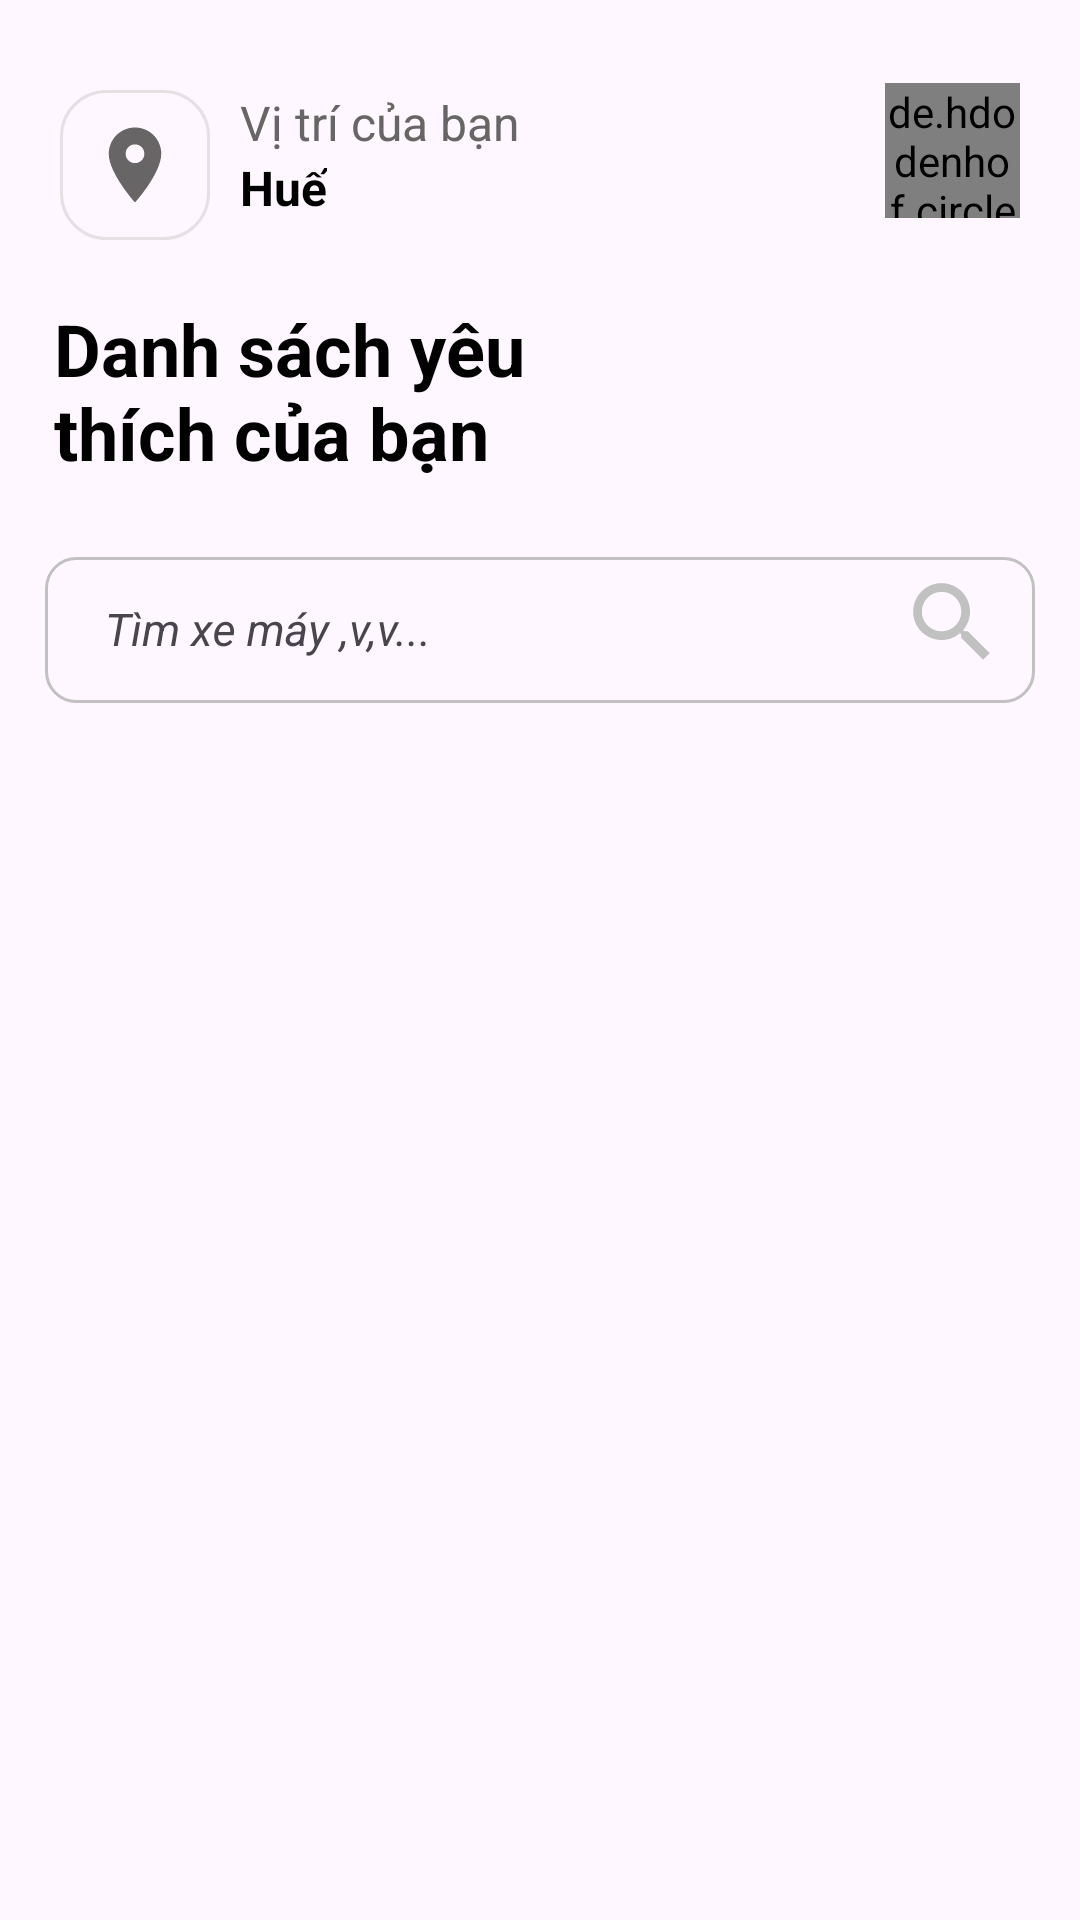

Locate icon controls on the screen. Image size 1080*1920, boxes as (x1, y1, x2, y2).
location: (60, 90, 210, 240)
search: (913, 583, 989, 659)
